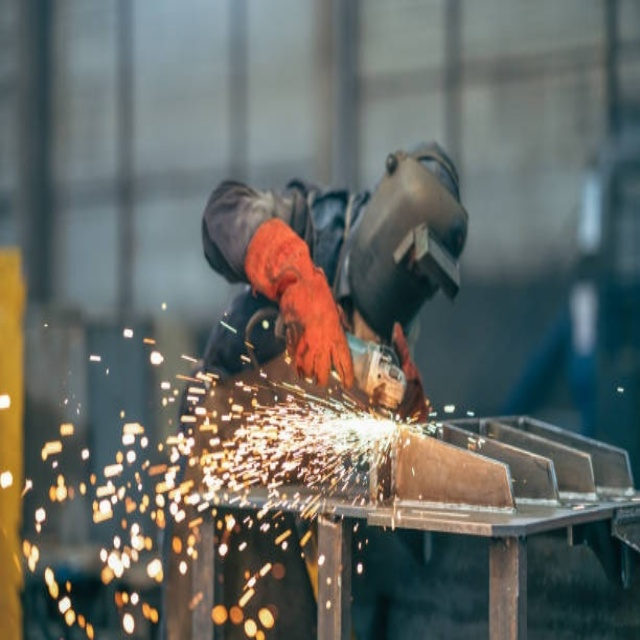Guantes: (244, 219, 356, 391), (390, 323, 430, 423)
